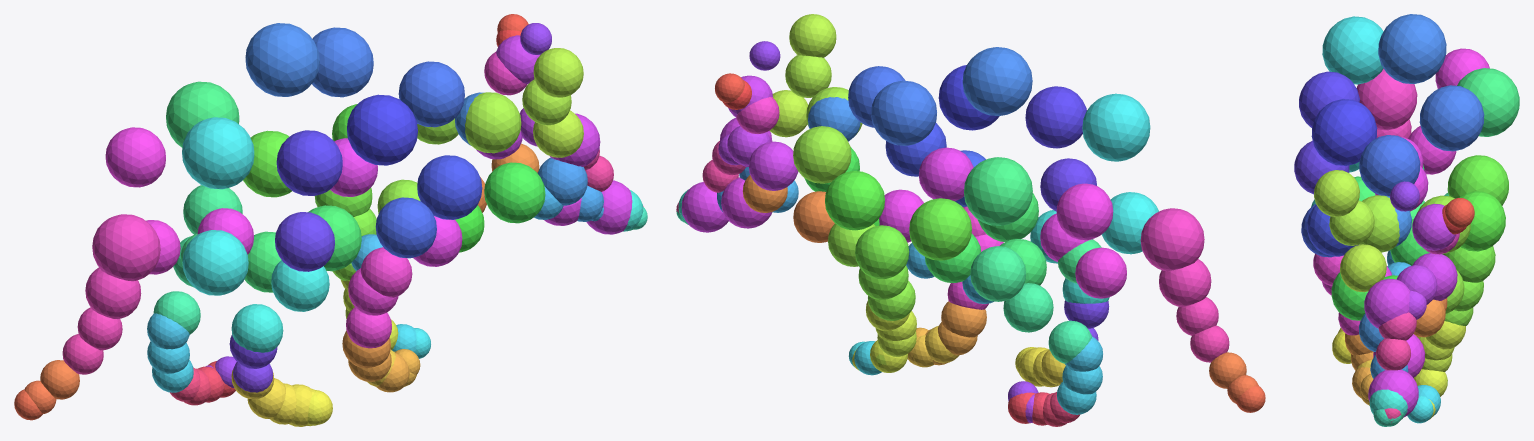
Rendered from bones.glb.
3 renders of one model, left to right at view 1: azimuth 30°, elevation 25°; view 2: azimuth 150°, elevation 25°; view 3: azimuth 270°, elevation 25°, orthographic. The views are drawn at different scales.
Size of the model in its own units: 0.6922 by 0.3959 by 0.2336.
